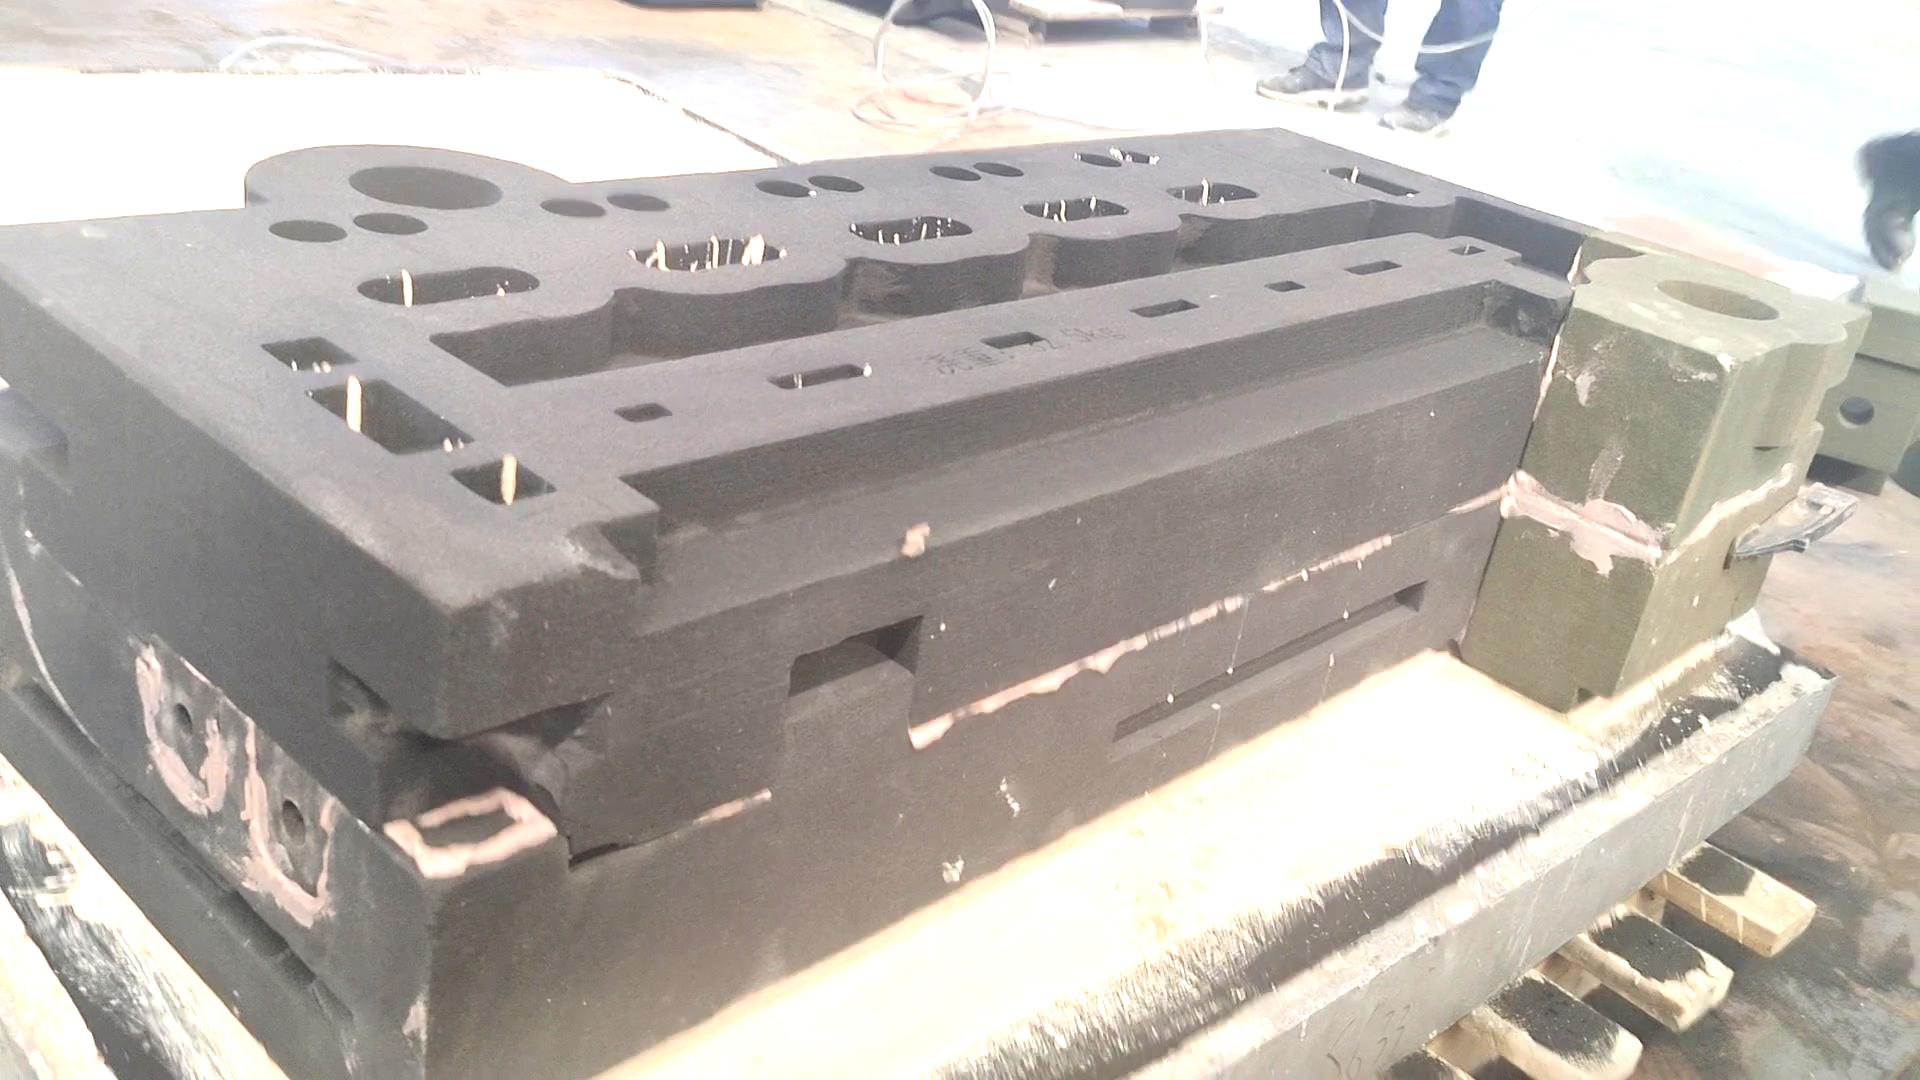pouring hole: (349, 166, 502, 210), (1658, 277, 1782, 320)
